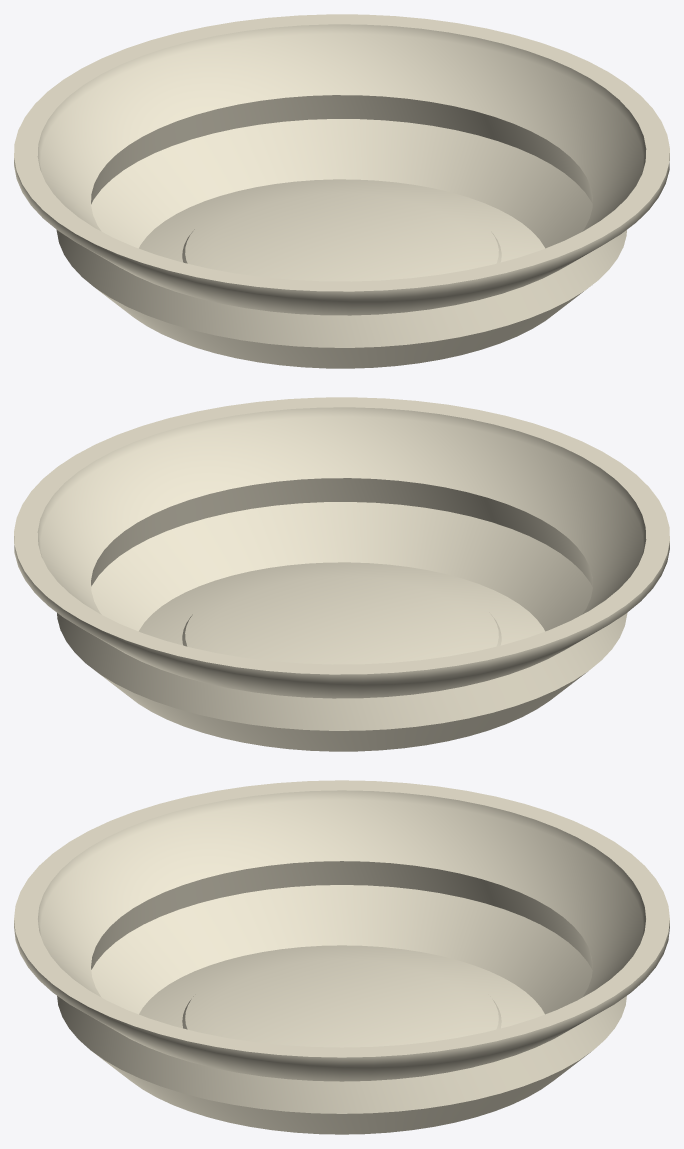
The model's file is ceramics-pottery-studio-wide-serving-bowl-f2f0e3b6__29512.glb.
3 renders of one model, top to bottom at view 1: azimuth 30°, elevation 25°; view 2: azimuth 150°, elevation 25°; view 3: azimuth 270°, elevation 25°, orthographic.
Parts seen in each view (by area): view 1: wide-serving-bowl; view 2: wide-serving-bowl; view 3: wide-serving-bowl.
Part boxes in pixels (x1,y1,x2,y2): wide-serving-bowl: [14, 14, 669, 368]; wide-serving-bowl: [14, 397, 669, 751]; wide-serving-bowl: [14, 780, 669, 1134].
Bounding box in the file's own units: 0.69 × 0.16 × 0.69.
